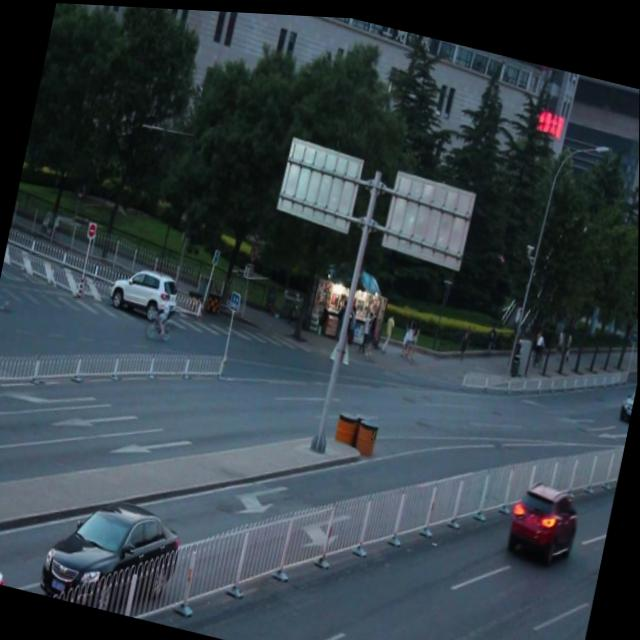car: (37, 478, 189, 622), (504, 467, 586, 561), (108, 258, 182, 323), (616, 371, 638, 418), (0, 534, 14, 586)
